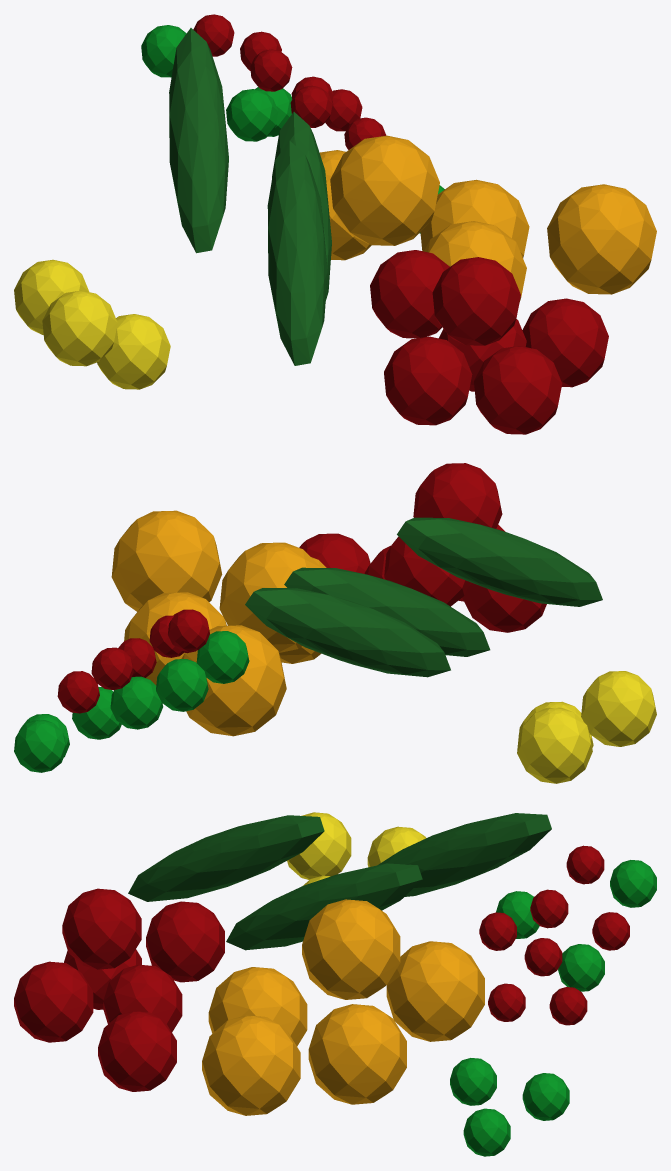
File: Fruit.dae
3 views of the same model, one above another, from view 1: azimuth 30°, elevation 25°; view 2: azimuth 150°, elevation 25°; view 3: azimuth 270°, elevation 25° (orthographic). The views are drawn at different scales.
Parts seen in each view (by area): view 1: Sphere_012, Sphere_011, Sphere_008, Sphere_006, Sphere_003, Sphere_001, Sphere_002, Sphere_013, Sphere_004, Sphere_019, Sphere_007, Sphere_021 (+14 smaller); view 2: Sphere_011, Sphere_012, Sphere_008, Sphere_010, Sphere_009, Sphere_006, Sphere_020, Sphere_019, Sphere_003, Sphere_004, Sphere_007, Sphere_002 (+12 smaller); view 3: Sphere_011, Sphere_006, Sphere_008, Sphere_007, Sphere_009, Sphere_010, Sphere_012, Sphere_001, Sphere_003, Sphere_013, Sphere_004, Sphere_005 (+17 smaller).
Boxes of the visible parts, left/top/right/bottom form: Sphere_012: left=169, top=28, right=228, bottom=253; Sphere_011: left=267, top=140, right=327, bottom=365; Sphere_008: left=547, top=184, right=656, bottom=294; Sphere_006: left=330, top=135, right=439, bottom=245; Sphere_003: left=432, top=257, right=520, bottom=345; Sphere_001: left=474, top=346, right=562, bottom=434; Sphere_002: left=384, top=336, right=472, bottom=425; Sphere_013: left=522, top=298, right=608, bottom=387; Sphere_004: left=370, top=250, right=449, bottom=338; Sphere_019: left=42, top=290, right=117, bottom=366; Sphere_007: left=420, top=179, right=529, bottom=257; Sphere_021: left=97, top=314, right=170, bottom=389; Sphere_011: left=397, top=517, right=602, bottom=606; Sphere_012: left=245, top=588, right=450, bottom=677; Sphere_008: left=111, top=510, right=222, bottom=611; Sphere_010: left=284, top=567, right=490, bottom=656; Sphere_009: left=181, top=625, right=286, bottom=736; Sphere_006: left=219, top=542, right=321, bottom=652; Sphere_020: left=517, top=707, right=592, bottom=783; Sphere_019: left=581, top=671, right=656, bottom=746; Sphere_003: left=413, top=463, right=502, bottom=528; Sphere_004: left=384, top=536, right=469, bottom=606; Sphere_007: left=124, top=592, right=226, bottom=685; Sphere_002: left=462, top=582, right=546, bottom=632; Sphere_011: left=128, top=815, right=324, bottom=901; Sphere_006: left=302, top=899, right=400, bottom=999; Sphere_008: left=202, top=1015, right=300, bottom=1115; Sphere_007: left=308, top=1004, right=406, bottom=1104; Sphere_009: left=386, top=941, right=484, bottom=1041; Sphere_010: left=226, top=863, right=422, bottom=950; Sphere_012: left=378, top=813, right=551, bottom=896; Sphere_001: left=14, top=961, right=93, bottom=1042; Sphere_003: left=62, top=888, right=141, bottom=969; Sphere_013: left=98, top=1011, right=176, bottom=1091; Sphere_004: left=146, top=901, right=224, bottom=982; Sphere_005: left=208, top=967, right=307, bottom=1046.
Size of the model in its own units: 1.1 by 1.19 by 0.4747.
